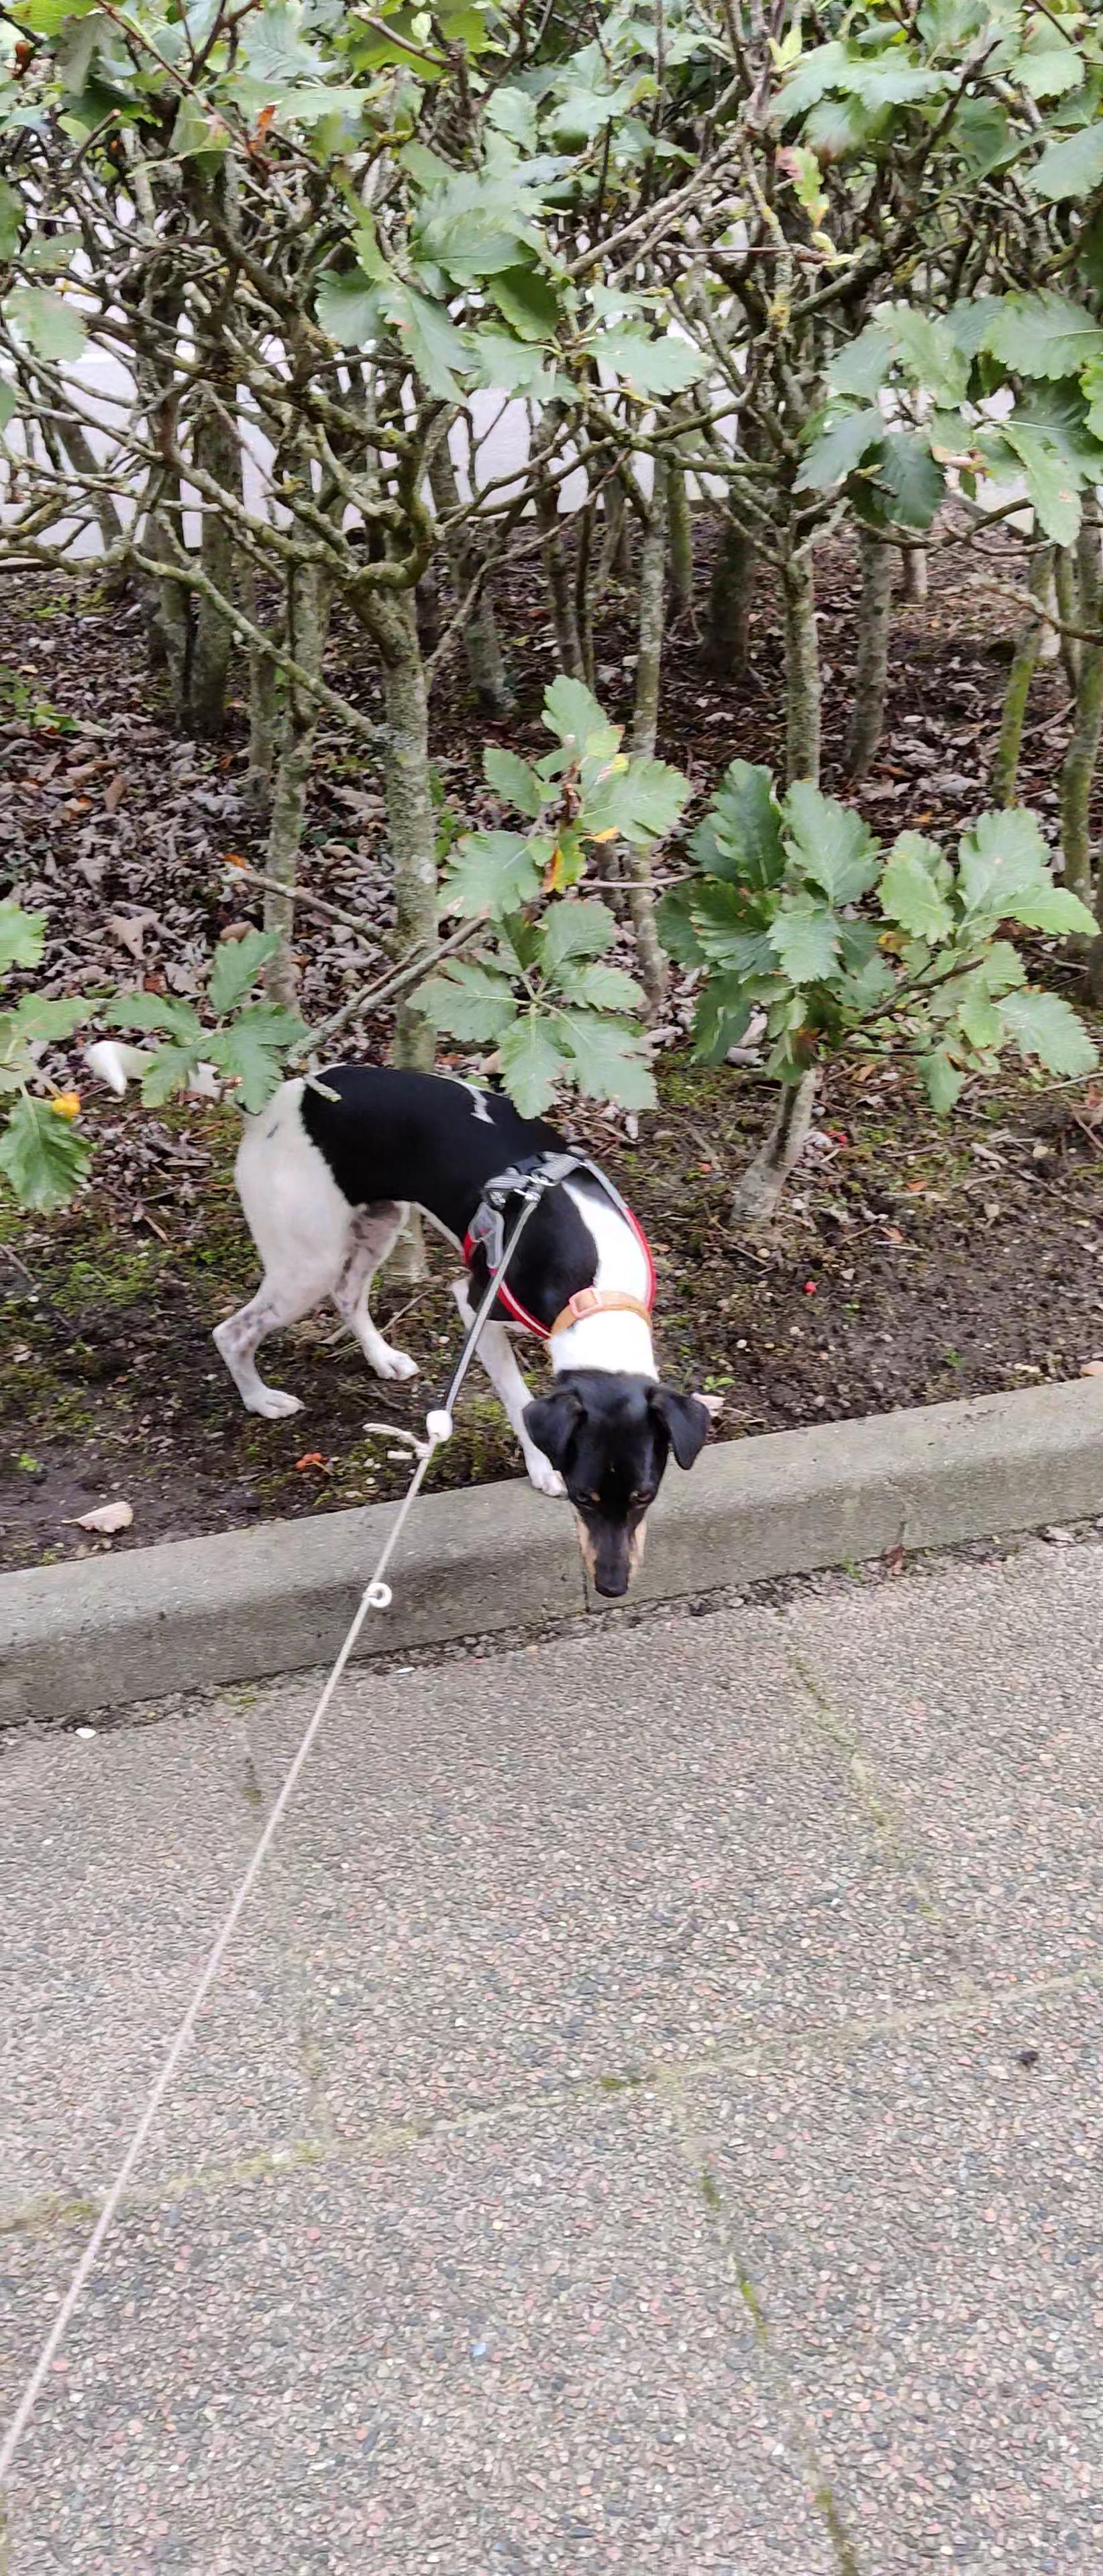Dog: (77, 1032, 720, 1603)
